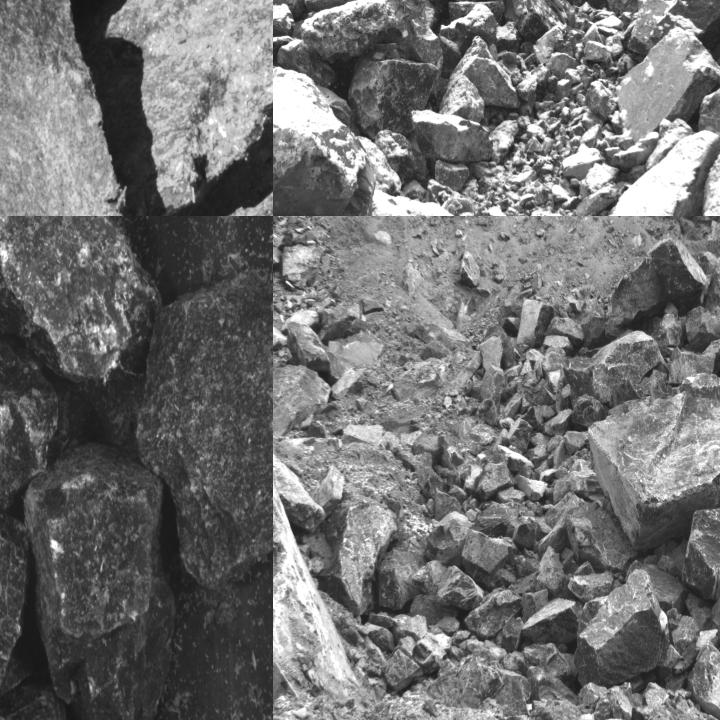stone: (23, 439, 177, 719), (136, 274, 272, 591), (104, 0, 272, 213), (0, 0, 161, 215), (0, 216, 161, 405), (589, 370, 719, 550), (273, 61, 375, 215), (0, 318, 63, 510), (615, 29, 719, 140), (574, 570, 669, 688), (603, 238, 707, 340), (599, 128, 719, 215), (295, 0, 427, 61), (565, 330, 660, 413), (352, 59, 438, 135), (426, 660, 532, 720), (565, 496, 638, 572), (455, 39, 522, 108), (413, 111, 493, 167), (273, 364, 330, 438), (374, 534, 428, 611), (439, 5, 497, 75), (461, 529, 518, 592), (648, 0, 719, 50), (682, 507, 719, 602), (464, 586, 523, 640), (626, 560, 685, 613), (371, 187, 482, 215), (521, 598, 585, 643), (495, 0, 566, 39), (686, 638, 719, 719), (667, 338, 719, 389), (377, 130, 429, 180), (425, 511, 470, 567), (632, 0, 679, 53), (552, 458, 603, 506), (435, 566, 486, 612), (440, 75, 487, 121), (287, 321, 329, 372), (698, 116, 719, 215), (524, 642, 576, 681), (668, 611, 698, 673), (382, 650, 424, 694), (470, 502, 521, 538), (516, 300, 555, 346), (478, 365, 506, 426), (474, 460, 514, 500), (685, 306, 719, 351), (568, 572, 614, 603), (585, 81, 618, 121), (572, 395, 606, 432), (432, 160, 472, 190), (698, 87, 719, 140), (434, 486, 464, 521), (505, 418, 532, 456), (703, 254, 719, 318), (426, 0, 486, 14), (462, 250, 480, 290), (542, 350, 569, 373), (273, 0, 293, 31), (543, 336, 575, 354), (582, 42, 612, 61)
